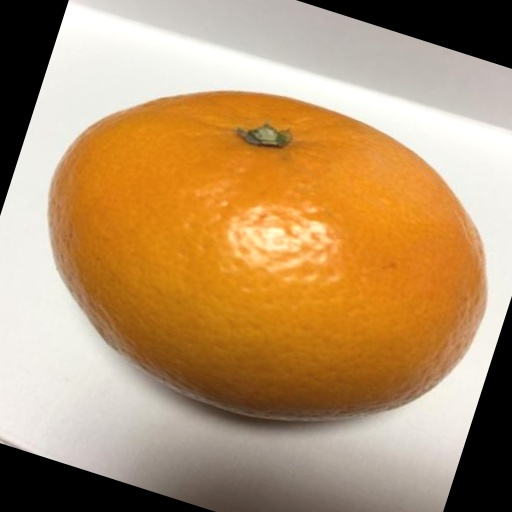fruit: (404, 193, 512, 501)
